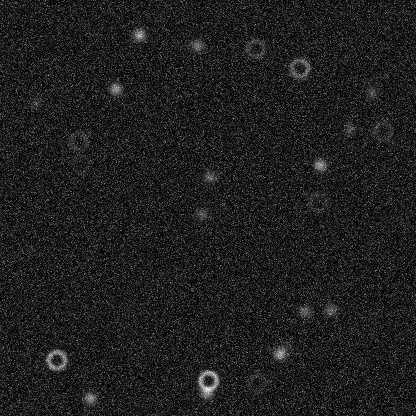Ring: (44, 347, 68, 371), (69, 152, 93, 176), (244, 371, 268, 395), (287, 56, 311, 80), (66, 128, 90, 152), (370, 119, 394, 143), (243, 36, 267, 60), (305, 190, 329, 214), (196, 368, 220, 392)
Spot: (278, 338, 294, 354), (27, 95, 43, 111), (107, 80, 123, 96), (341, 120, 357, 136), (189, 37, 205, 53), (198, 385, 214, 401), (363, 83, 379, 99), (193, 205, 209, 221), (81, 390, 97, 406), (322, 302, 338, 318), (131, 26, 147, 42), (296, 303, 312, 319), (201, 168, 217, 184), (271, 345, 287, 361), (311, 156, 327, 172)
